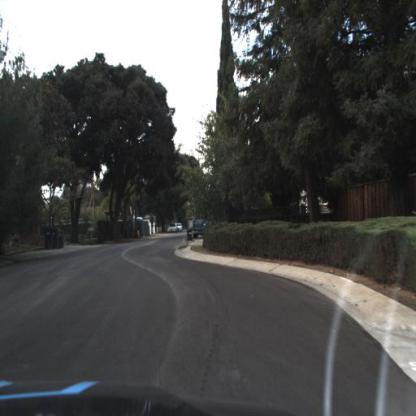car: (194, 201, 217, 240), (168, 224, 179, 234), (176, 225, 184, 234)
